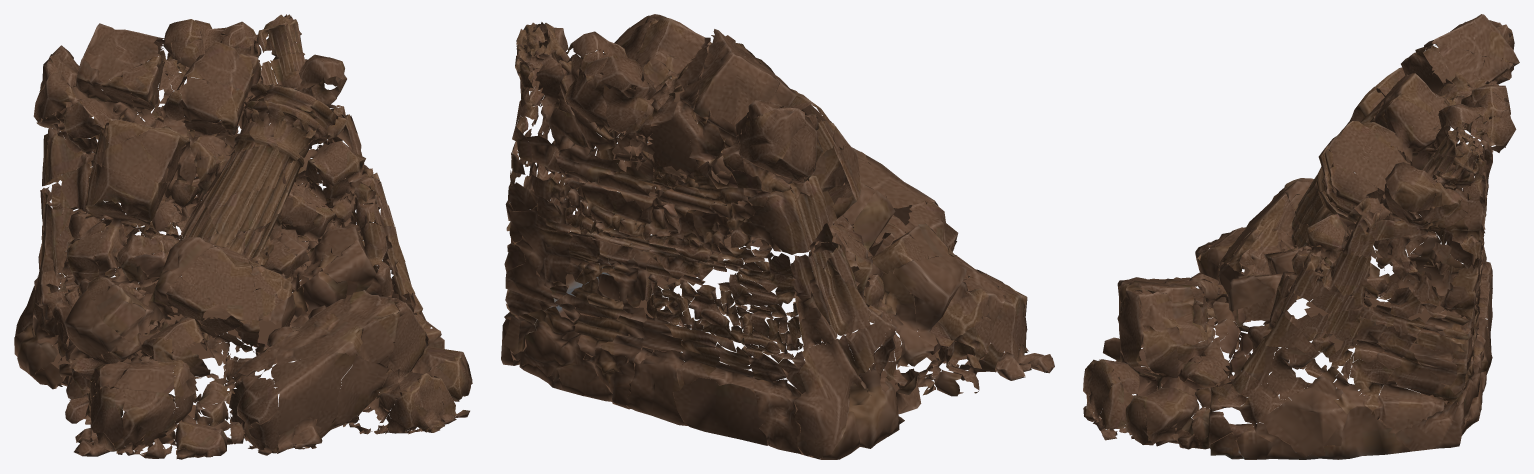
File: rubble-intact.glb
The picture shows the model from 3 angles, left to right: view 1: azimuth 30°, elevation 25°; view 2: azimuth 150°, elevation 25°; view 3: azimuth 270°, elevation 25°; orthographic projection. The views are drawn at different scales.
Parts seen in each view (by area): view 1: asset; view 2: asset; view 3: asset.
Part boxes in pixels (x1,y1,x2,y2): asset: (14,14,472,459); asset: (501,14,1054,459); asset: (1083,14,1519,459).
Size of the model in its own units: 1.9 by 1.54 by 1.84.
Materials: 1 (1 with a texture image).
